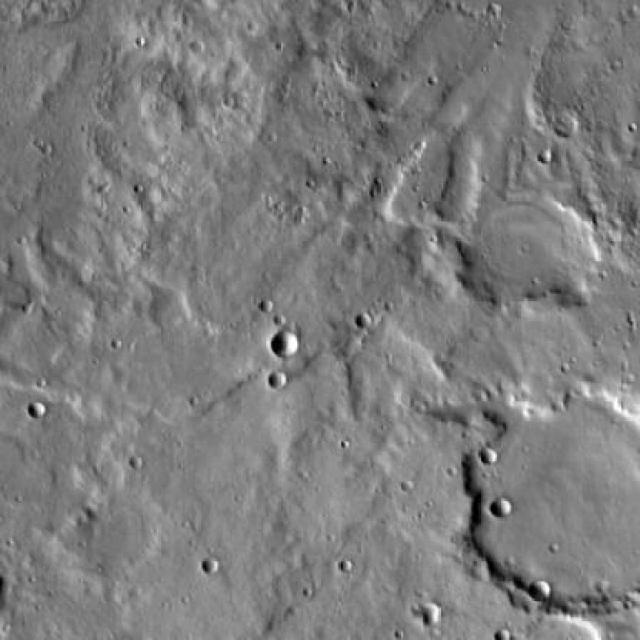crater: (469, 388, 640, 612), (471, 190, 597, 310), (272, 330, 298, 356), (556, 112, 581, 136), (533, 572, 555, 594), (426, 602, 446, 622), (491, 496, 509, 515), (268, 378, 286, 393)
